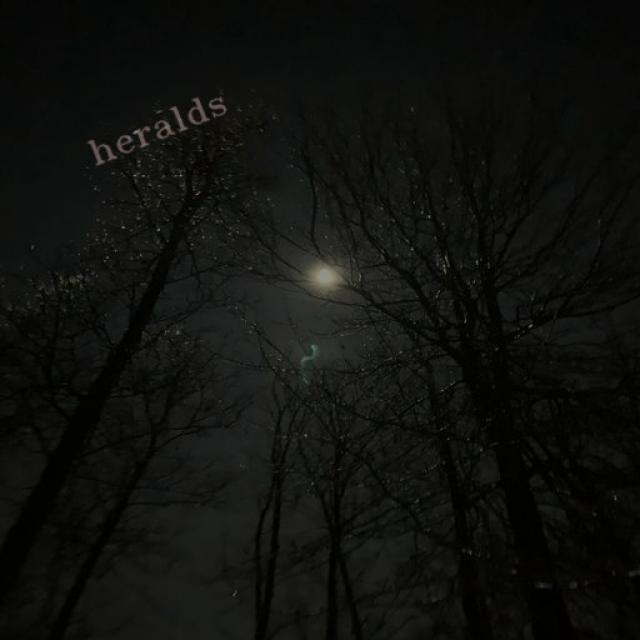watermark: (85, 84, 229, 172)
